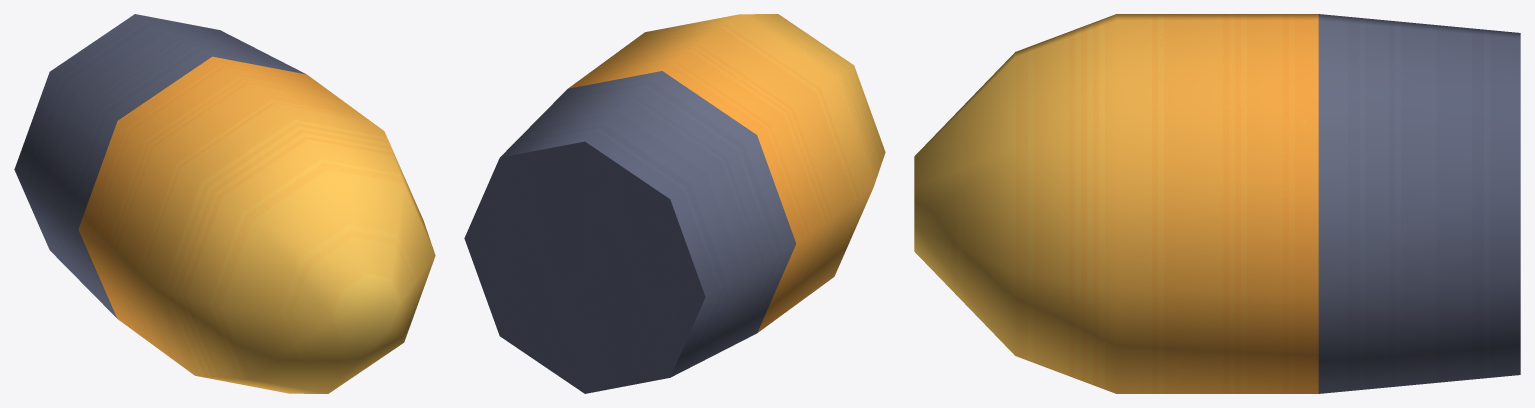
Rendered from tower-defense-kit--weapon-ammo-bullet.glb.
3 views of the same model, side by side, from view 1: azimuth 30°, elevation 25°; view 2: azimuth 150°, elevation 25°; view 3: azimuth 270°, elevation 25° (orthographic). The views are drawn at different scales.
Parts seen in each view (by area): view 1: weapon-ammo-bullet; view 2: weapon-ammo-bullet; view 3: weapon-ammo-bullet.
Boxes of the visible parts, left/top/right/bottom form: weapon-ammo-bullet: left=14, top=14, right=435, bottom=393; weapon-ammo-bullet: left=464, top=14, right=885, bottom=393; weapon-ammo-bullet: left=914, top=14, right=1520, bottom=393.
Bounding box in the file's own units: 0.2 × 0.2 × 0.3.
1 material, 1 textured.
